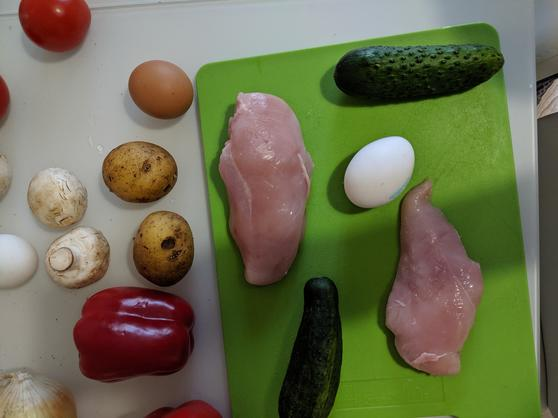champignon: (41, 227, 110, 287), (29, 167, 86, 227)
chicken_fillet: (383, 180, 486, 377), (219, 90, 314, 286)
cucumber: (280, 278, 343, 416), (334, 45, 504, 95)
egg: (341, 133, 416, 208), (128, 60, 195, 118), (1, 234, 38, 290)
pepper: (76, 286, 196, 382)
potato: (131, 209, 195, 286), (102, 140, 178, 201)
tomato: (18, 1, 90, 51)
